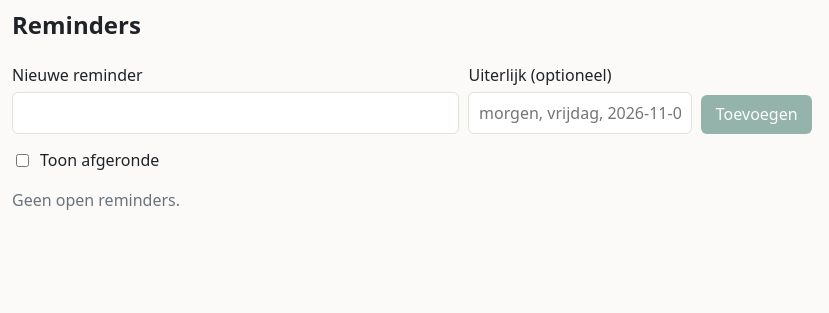
Scenario: RemindersPage › adds a reminder and reloads the list
The width and height of the screenshot is (829, 313).
Expected: the text "Geen open reminders." is shown, [12,189,180,211]
Step 1. Type "Fiets" into the field labelled "Nieuwe reminder" → (235, 113), box [12,92,459,134]
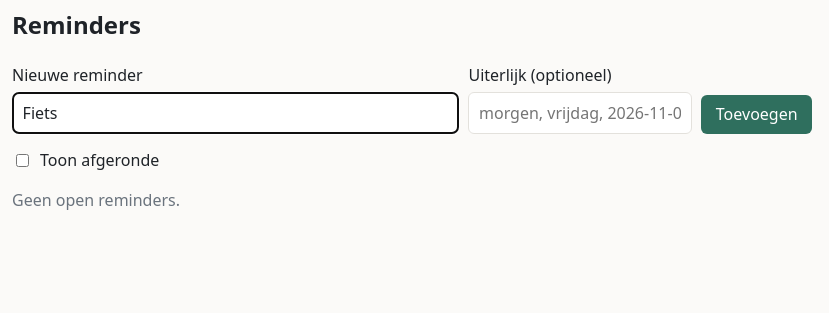
Step 2. Type "morgen" into the field labelled "Uiterlijk (optioneel)" → (580, 113), box [468,92,692,134]
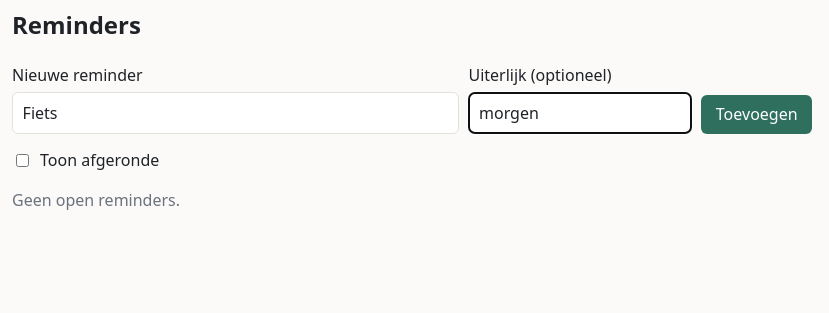
Step 3. Click the button "Toevoegen" → (757, 114), box [702,95,812,134]
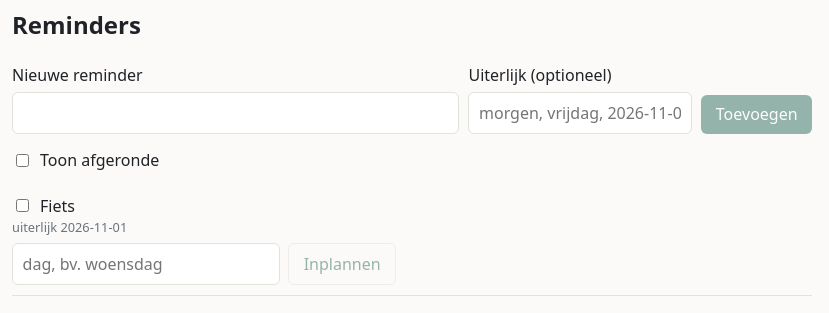
Result: the text "Fiets" is shown at [40,194,75,218]
Result: the field labelled "Nieuwe reminder" is empty at [12,92,459,134]
